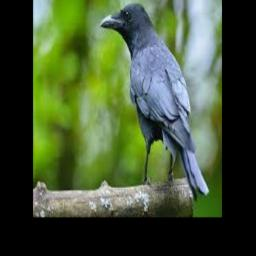Crow: (100, 3, 209, 201)
